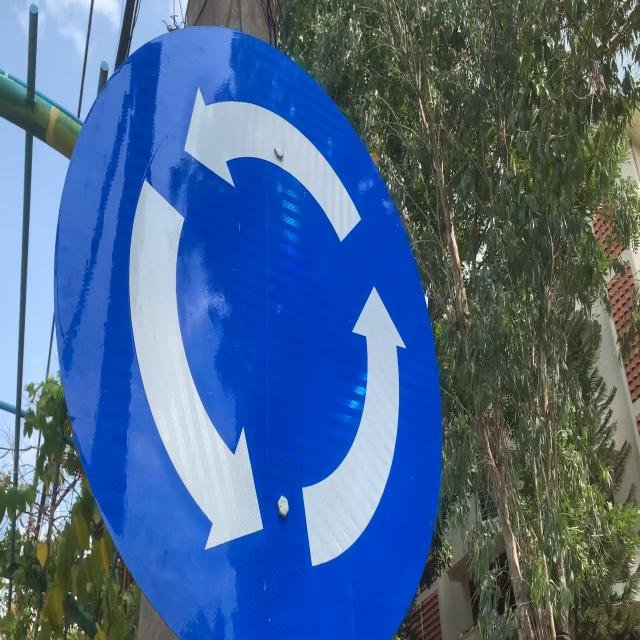Vong xuyen: (51, 21, 445, 640)
